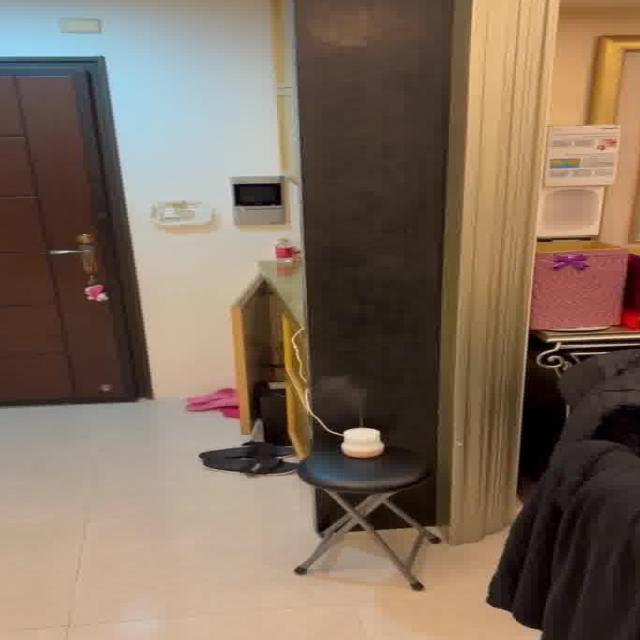fire: (325, 370, 378, 420)
